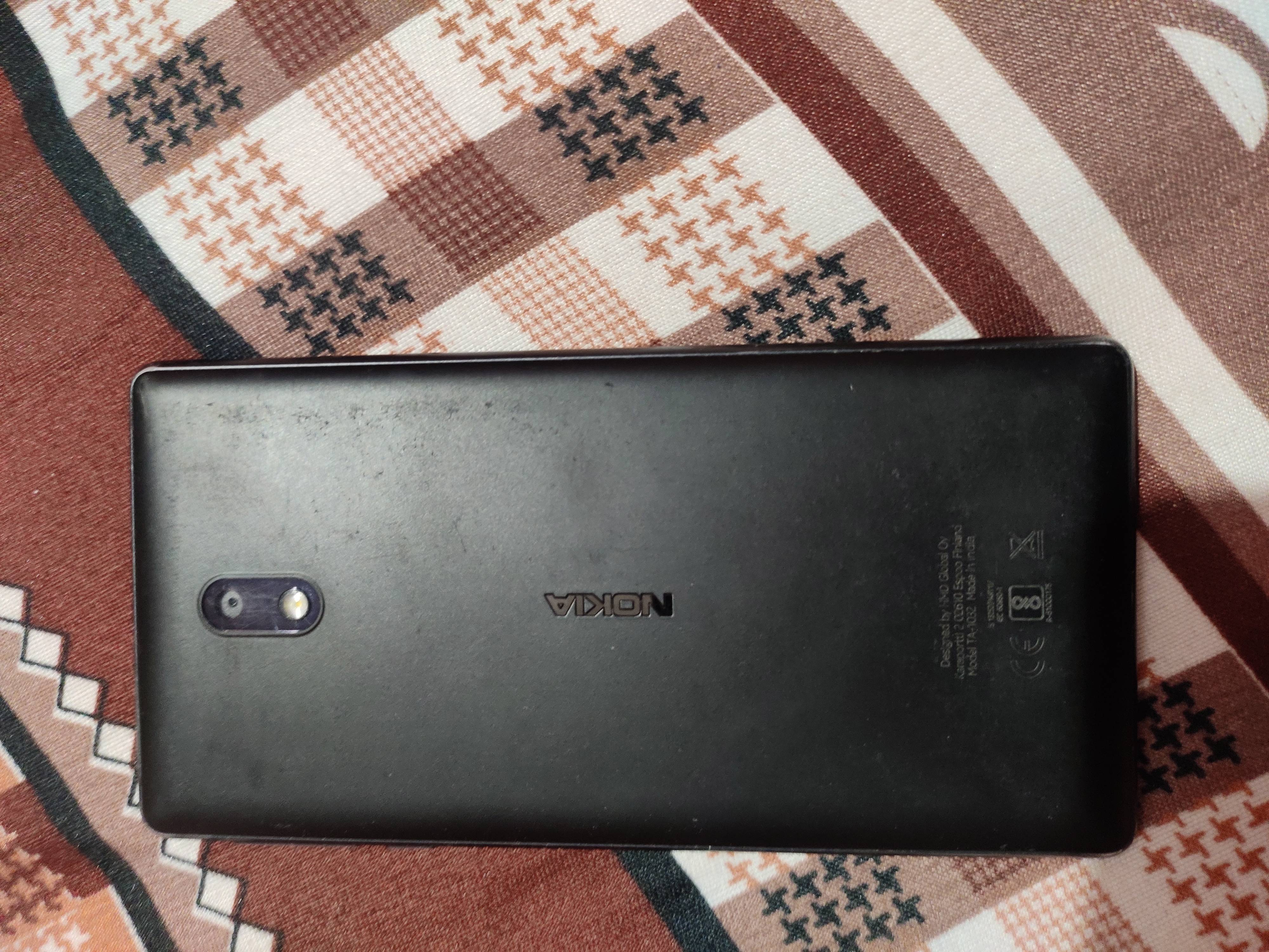Electronics: (93, 311, 1166, 881)
